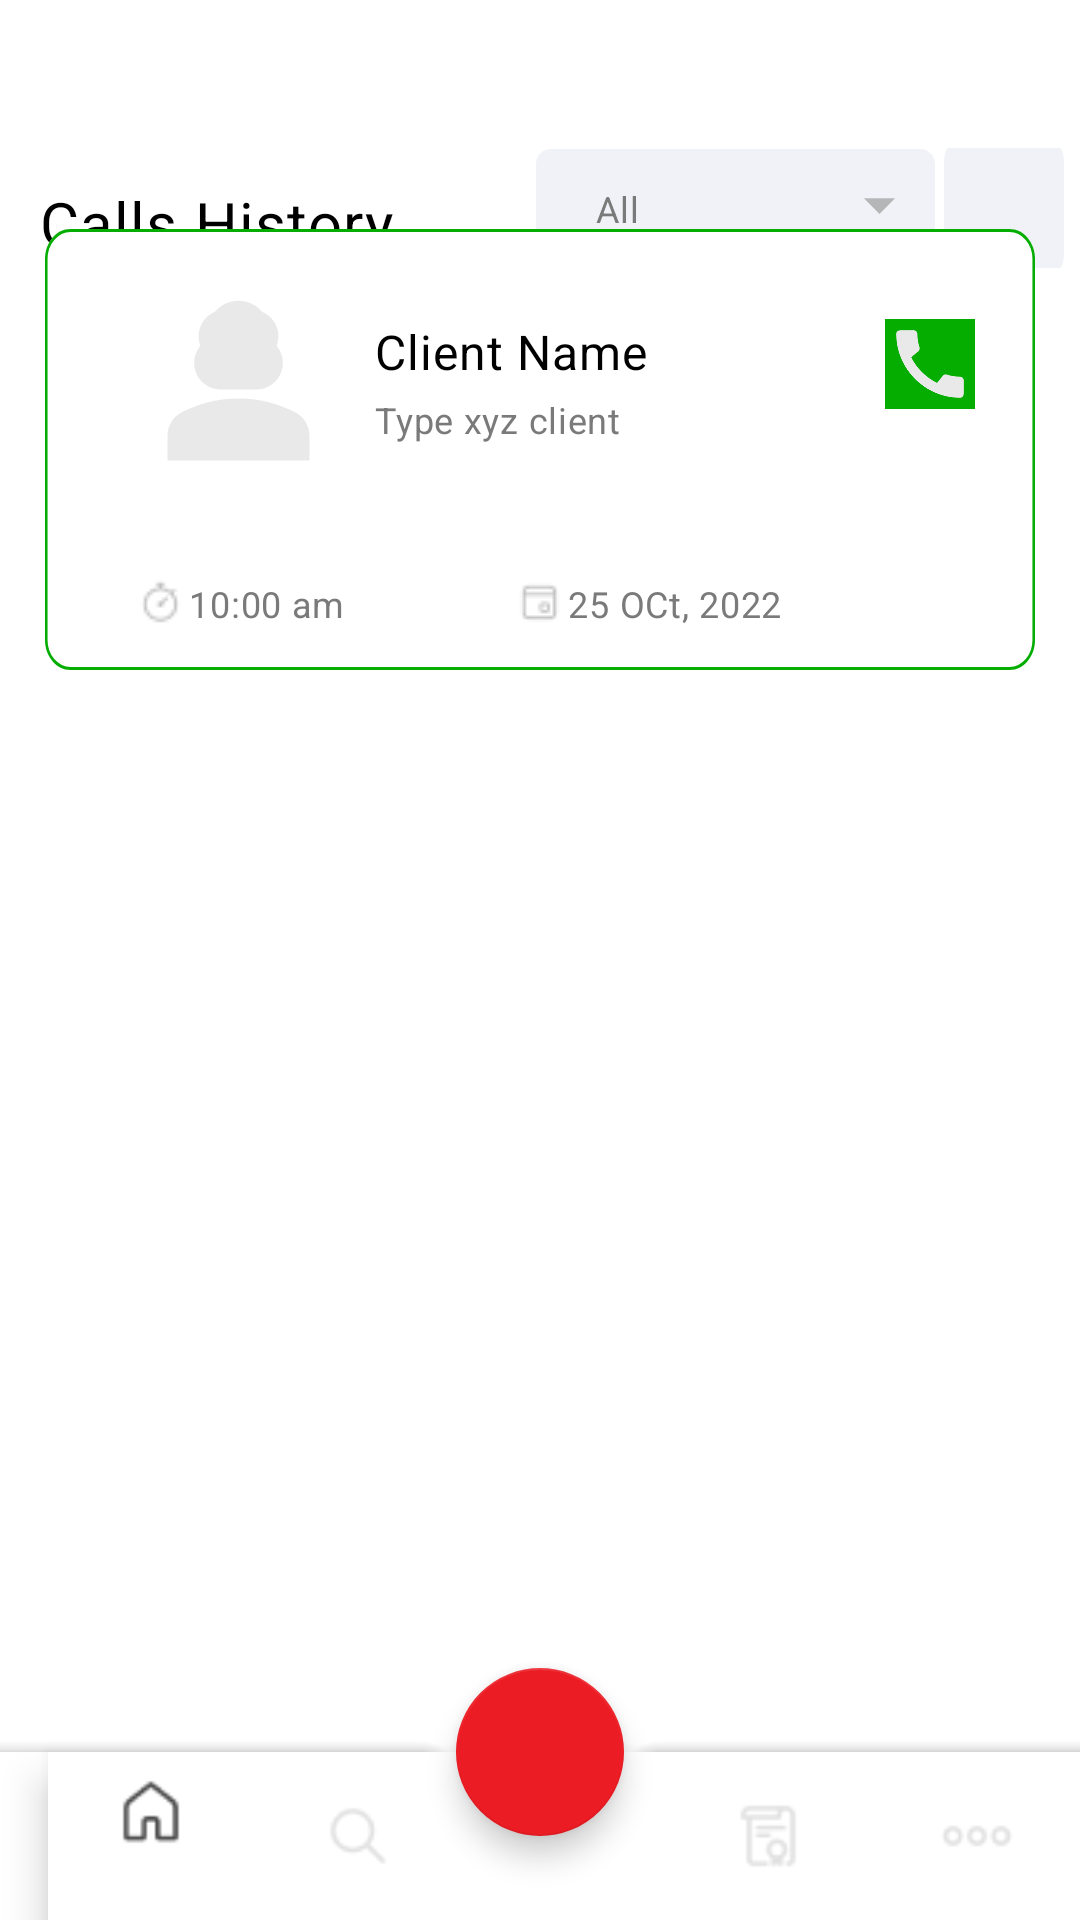

Where to tap for icons on this 1080*1920 app screen, as [x,y]:
arrow drop down: [879,206]
call: [930,364]
date: [539,602]
time: [160,602]
